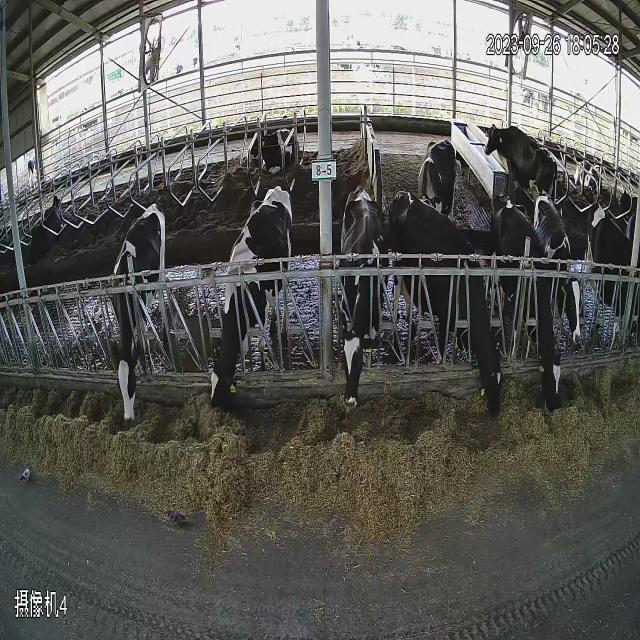drinking: (479, 106, 561, 200)
feeding: (393, 177, 508, 422), (204, 180, 296, 422), (100, 184, 178, 444), (493, 180, 567, 424)
lying down: (242, 104, 304, 182), (28, 166, 72, 272), (568, 130, 609, 200), (612, 172, 640, 239)
standing: (592, 202, 640, 356)
